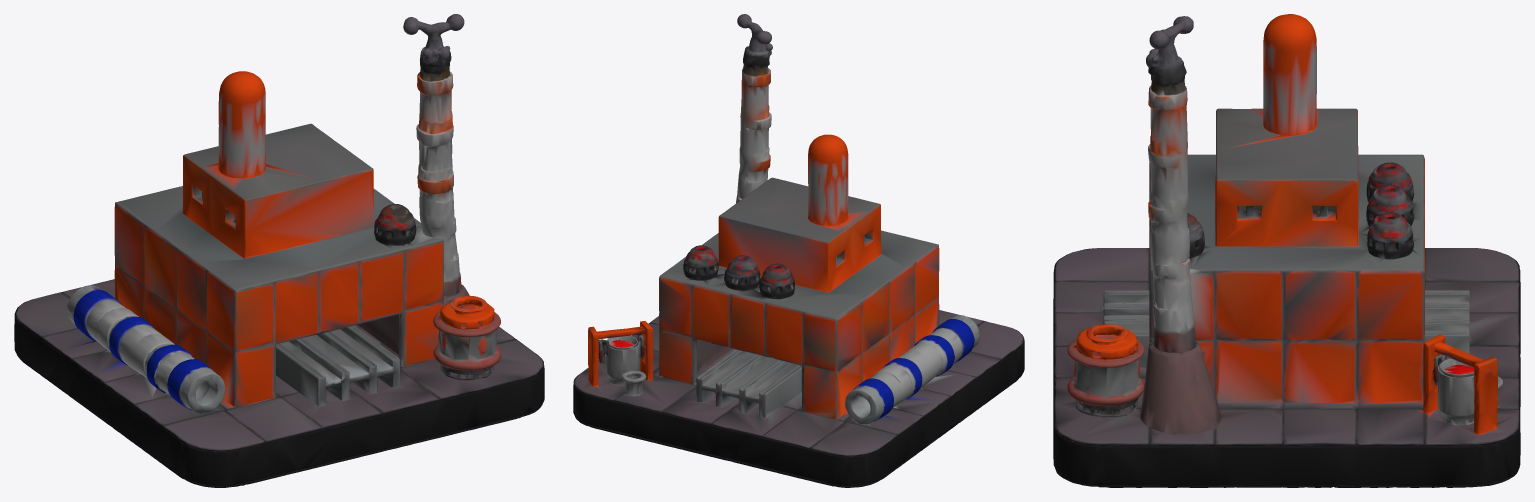
File: feed.glb
3 views of the same model, side by side, from view 1: azimuth 30°, elevation 25°; view 2: azimuth 150°, elevation 25°; view 3: azimuth 270°, elevation 25° (orthographic). The views are drawn at different scales.
Size of the model in its own units: 0.9615 by 0.9649 by 0.9613.
